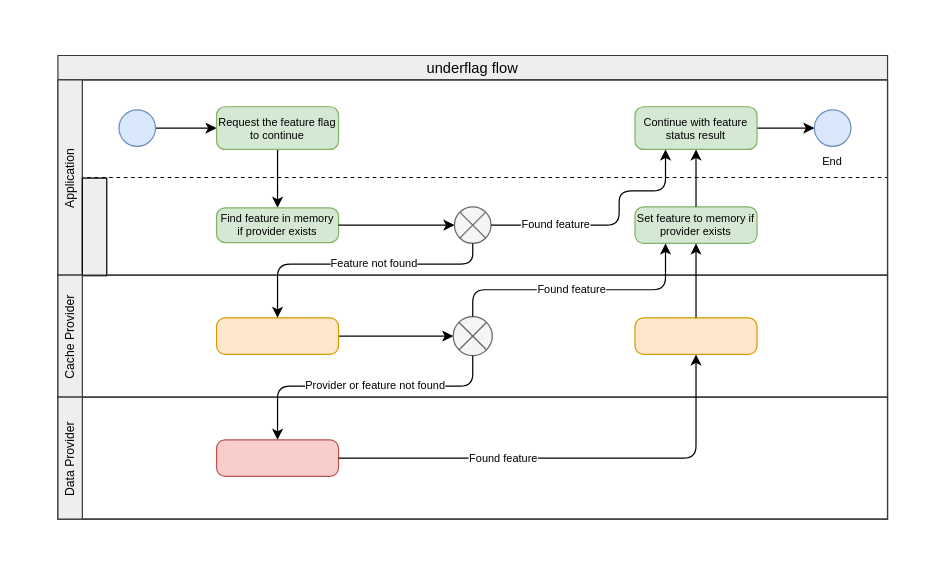
Some shapes in this 944 by 578 pixel diagram are drawn without their labels. Here are the shapes that lost their labels. From the top down, the centre of each, then its label:
At point 137,127: "Start".
At point 94,226: "Memory Provider".
At point 277,335: "Find feature in cache if provider exists".
At point 695,335: "Set feature to cache if provider exists".
At point 277,457: "Find feature in data provider".
